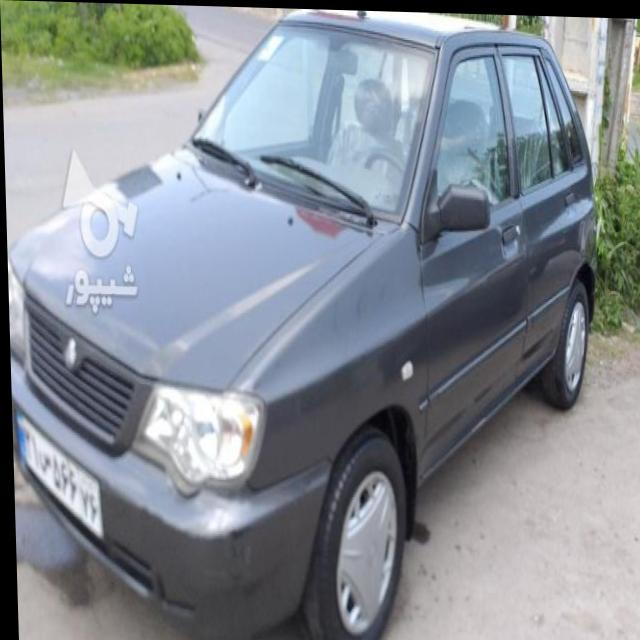licence: (11, 410, 100, 538)
